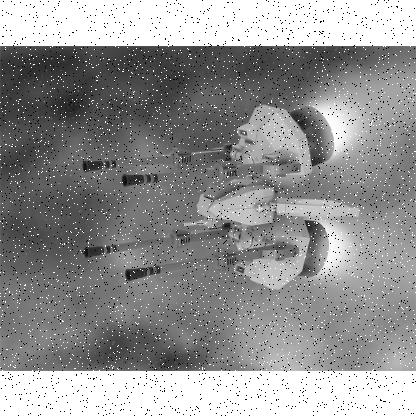gun: (78, 126, 316, 222)
